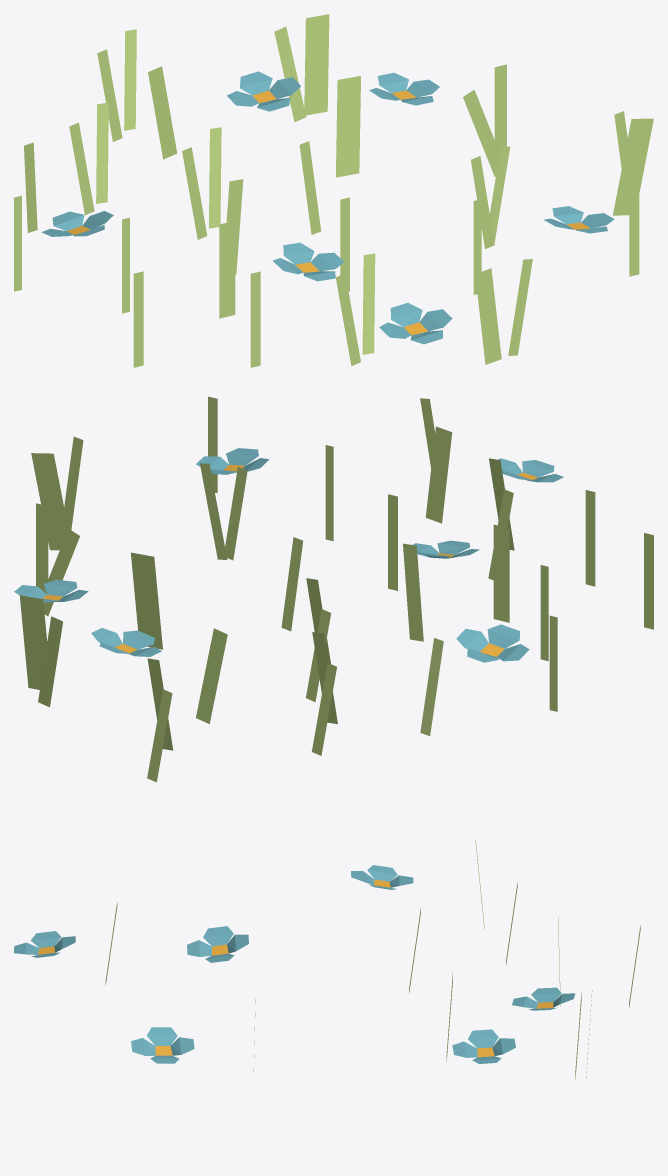
File: M_Plants_Flowers_5.fbx
3 renders of one model, top to bottom at view 1: azimuth 30°, elevation 25°; view 2: azimuth 150°, elevation 25°; view 3: azimuth 270°, elevation 25°, orthographic. The views are drawn at different scales.
Parts seen in each view (by area): view 1: M_Plants_Flowers_5; view 2: M_Plants_Flowers_5; view 3: M_Plants_Flowers_5.
Part boxes in pixels (x1=…): M_Plants_Flowers_5: x1=14, y1=14, x2=653, y2=367; M_Plants_Flowers_5: x1=14, y1=396, x2=653, y2=782; M_Plants_Flowers_5: x1=14, y1=840, x2=640, y2=1079.
Bounding box in the file's own units: 1.46 × 0.277 × 1.53.
